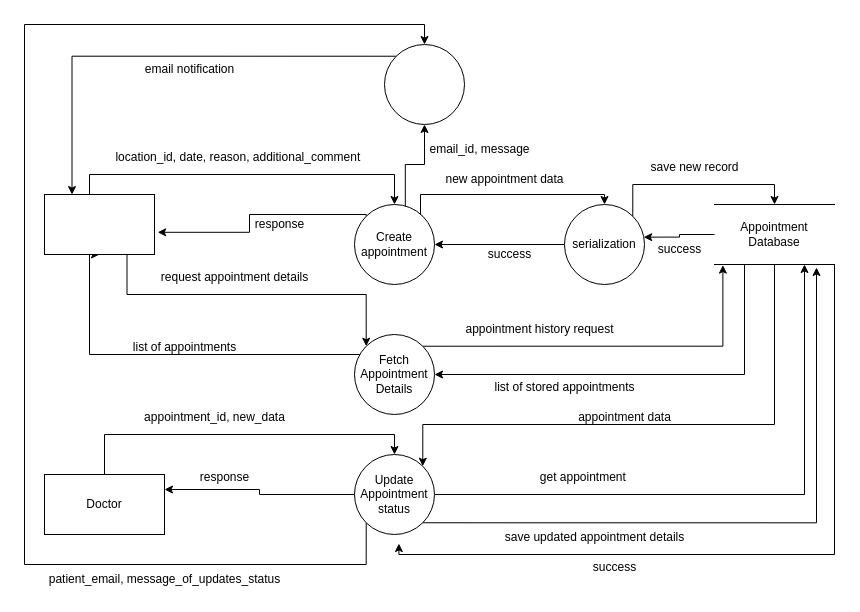
Image size: 860x612. Some labels were removed from this diagram. The box of each missing label's shape, as (x1, y1, x2, y2) in pixels:
Patient: (44, 194, 154, 254)
Send Email: (384, 44, 464, 124)
